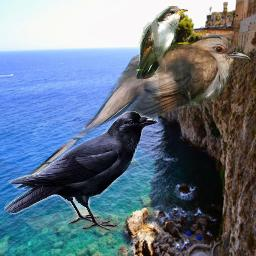Crow: (4, 111, 158, 232)
Cuckoo: (25, 35, 253, 182), (136, 6, 188, 79)
